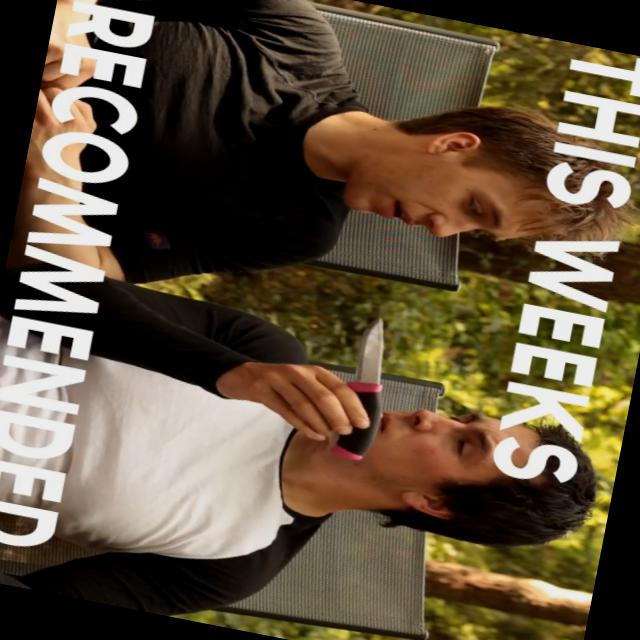knife: (312, 299, 412, 474)
